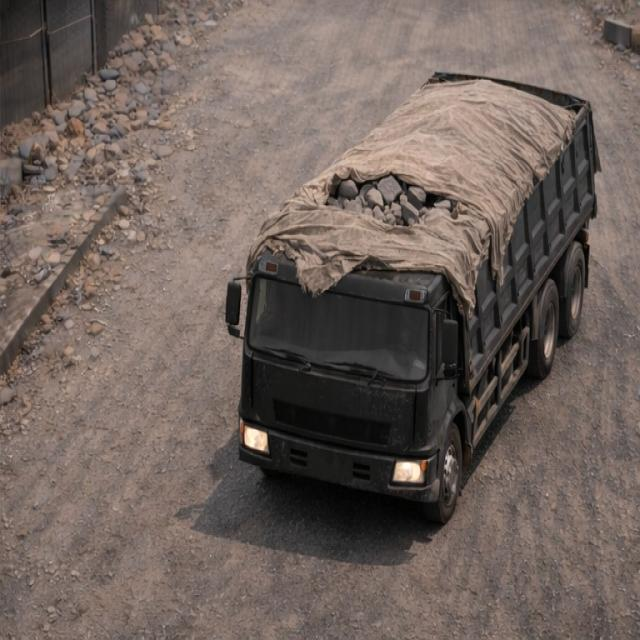trailer: (264, 71, 590, 268)
truck: (227, 68, 608, 516)
